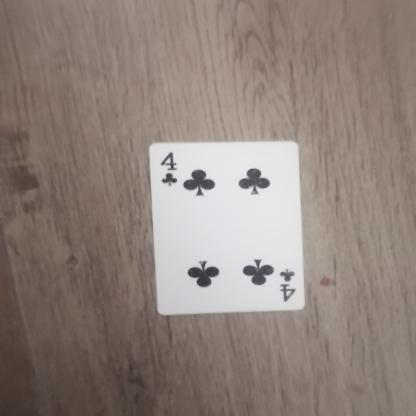4C: (157, 149, 186, 199), (274, 263, 306, 308)
